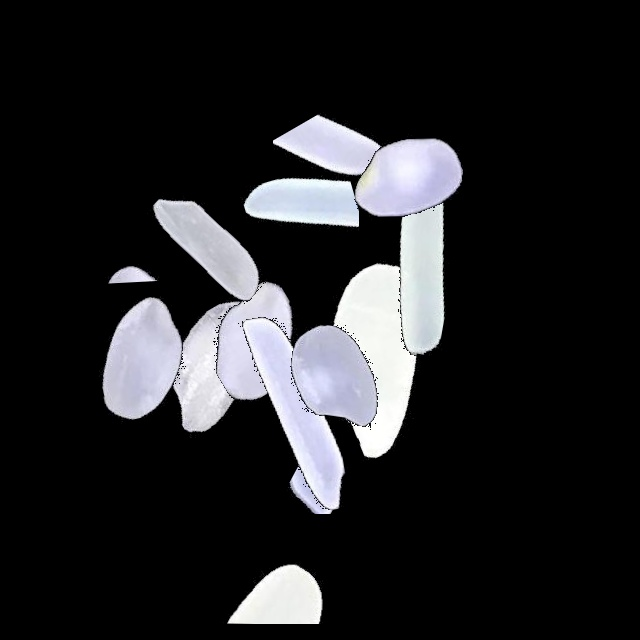Broken: (163, 239, 413, 412), (216, 96, 359, 346), (273, 54, 411, 304), (238, 404, 488, 514), (130, 525, 380, 624), (95, 126, 345, 211), (94, 114, 179, 364)
Full: (250, 234, 500, 484), (92, 238, 342, 488), (84, 117, 334, 367), (13, 232, 263, 482), (172, 287, 422, 537), (297, 130, 547, 380), (211, 250, 461, 500), (285, 53, 535, 303)
